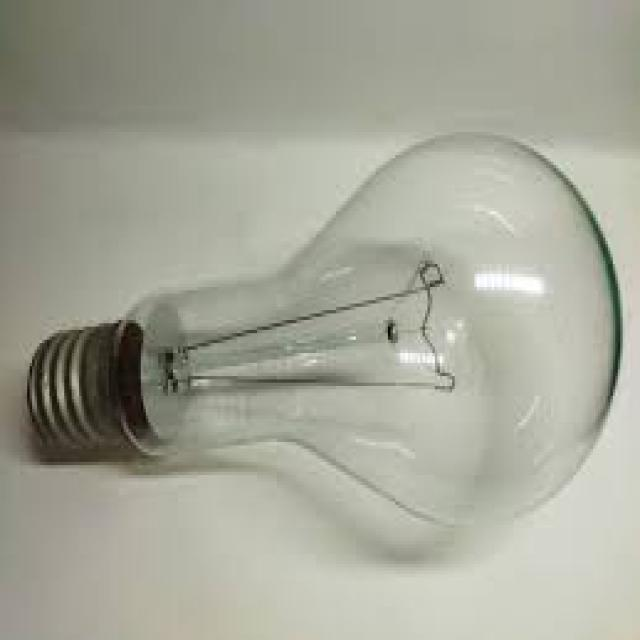bulb: (19, 120, 623, 543)
